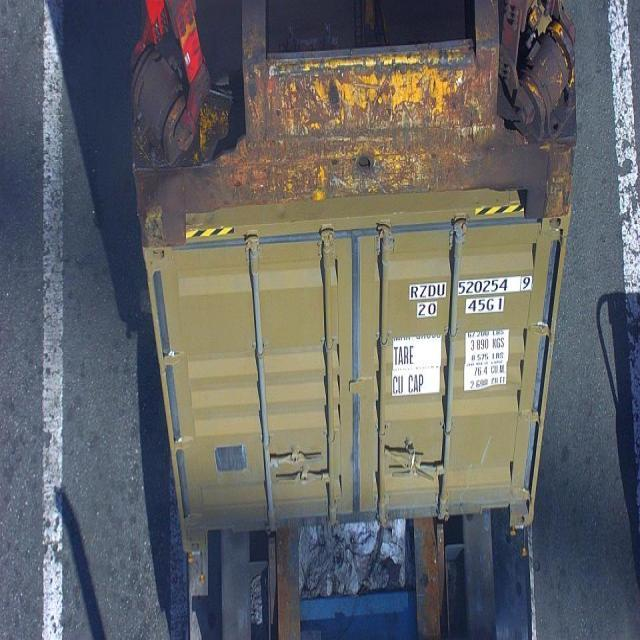ISO: (467, 296, 503, 312)
container_number: (409, 276, 534, 296)
